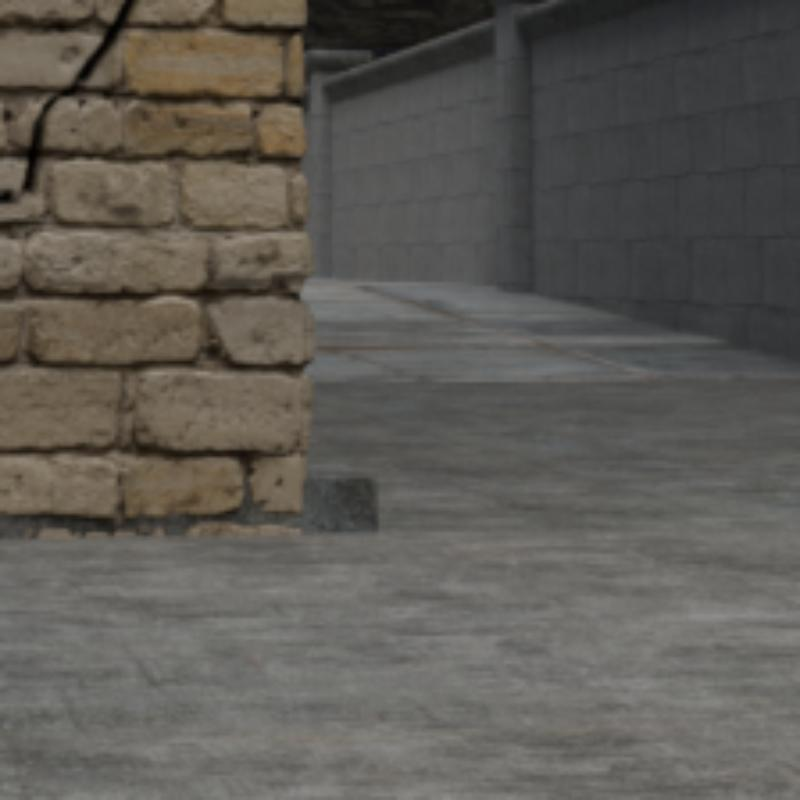pothole: (0, 0, 139, 200)
